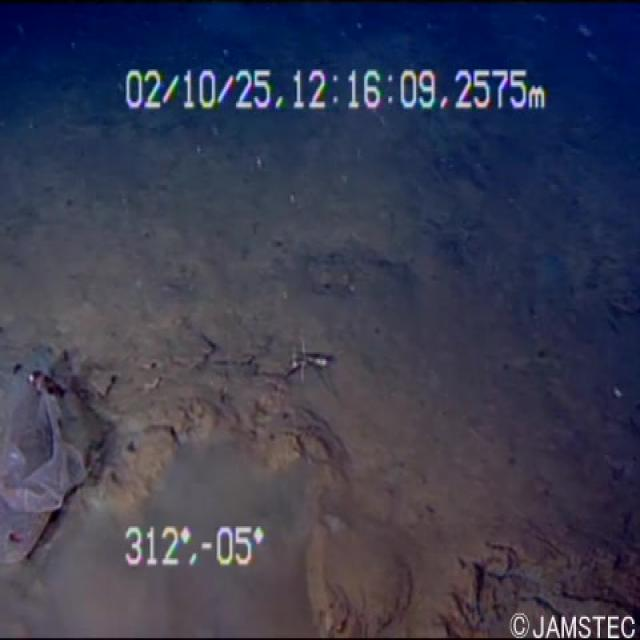plastic: (0, 334, 104, 585)
